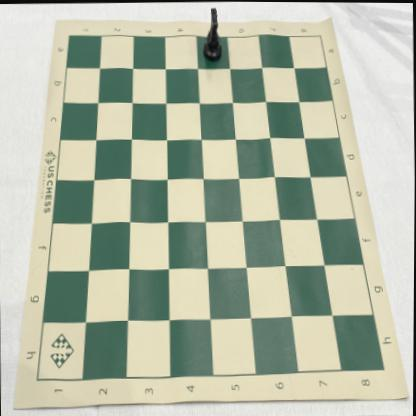black-knight: (202, 8, 222, 62)
